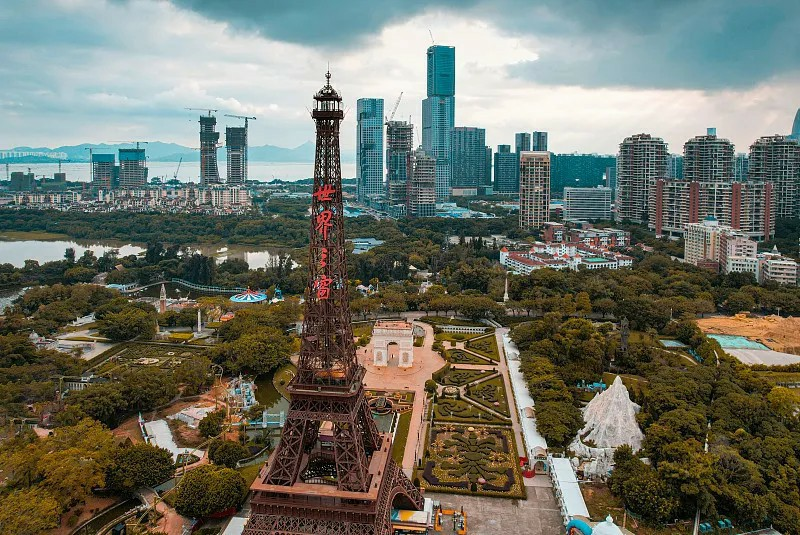Eiffel: (240, 61, 425, 535)
